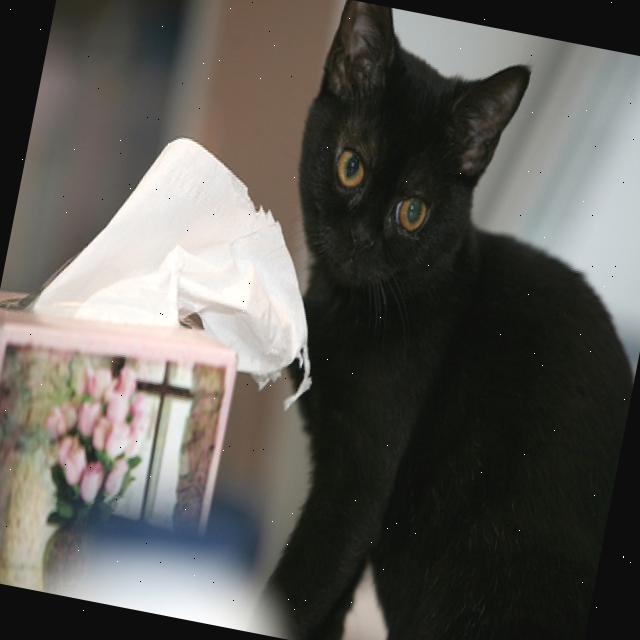cat-eye: (384, 177, 442, 244)
cat-eye-normal: (320, 128, 379, 214)
